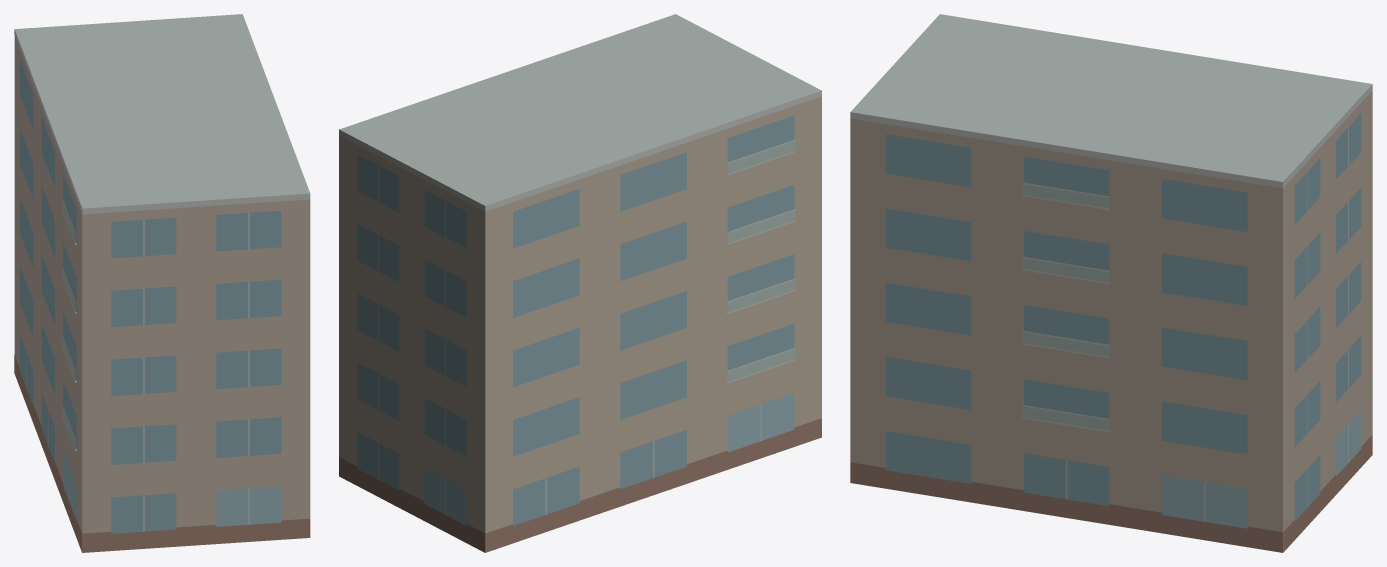
Rendered from survey-upis-32718148.glb.
The picture shows the model from 3 angles, left to right: view 1: azimuth 30°, elevation 25°; view 2: azimuth 150°, elevation 25°; view 3: azimuth 270°, elevation 25°; orthographic projection. The views are drawn at different scales.
Parts seen in each view (by area): view 1: survey-upis-32718148.tmp; view 2: survey-upis-32718148.tmp; view 3: survey-upis-32718148.tmp.
Boxes of the visible parts, bbox=[...] form: survey-upis-32718148.tmp: bbox=[14, 14, 310, 552]; survey-upis-32718148.tmp: bbox=[339, 14, 821, 552]; survey-upis-32718148.tmp: bbox=[850, 14, 1372, 552].
Size of the model in its own units: 14.1 by 14.5 by 18.52.
